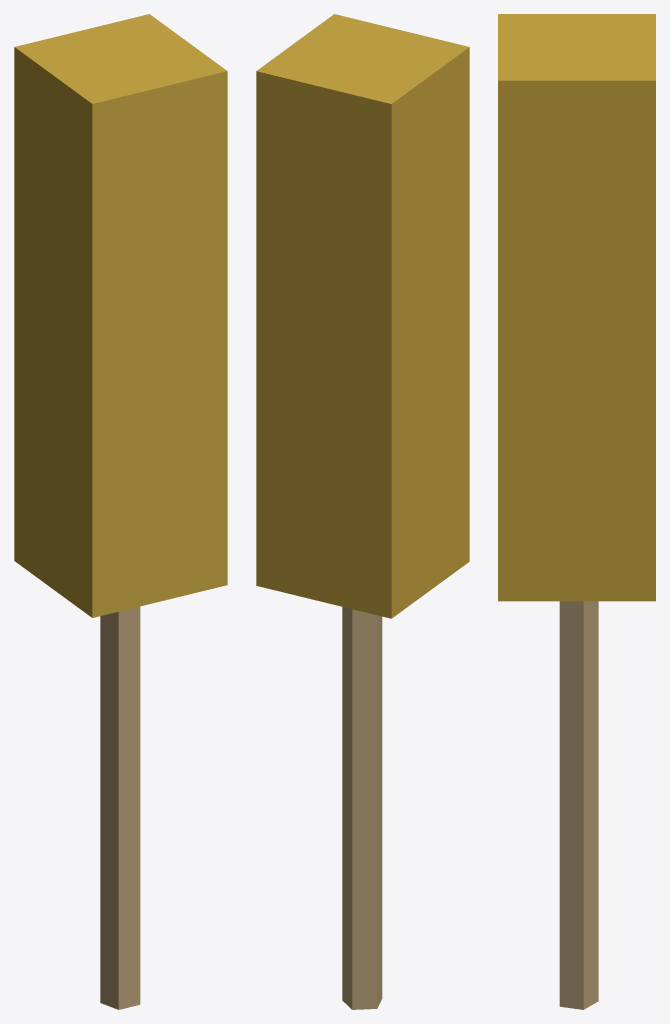
Rendered from item_pine.glb.
3 renders of one model, left to right at view 1: azimuth 30°, elevation 25°; view 2: azimuth 150°, elevation 25°; view 3: azimuth 270°, elevation 25°, orthographic.
Visible parts, largest first — view 1: item_pine; view 2: item_pine; view 3: item_pine.
Boxes of the visible parts, x1=… form: item_pine: x1=14, y1=14, x2=227, y2=1009; item_pine: x1=256, y1=14, x2=469, y2=1009; item_pine: x1=498, y1=14, x2=655, y2=1009.
Bounding box in the file's own units: 0.044 × 0.2932 × 0.044.
